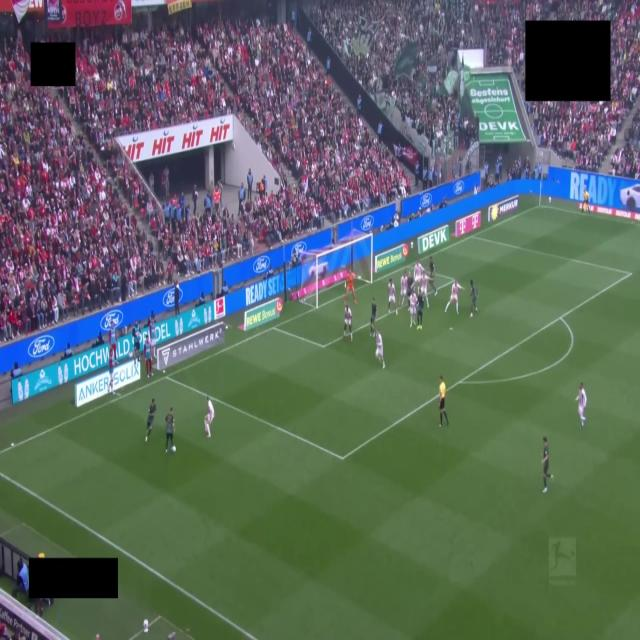ball: (172, 446, 175, 453)
player: (542, 437, 552, 493), (445, 280, 461, 313), (145, 399, 156, 441), (576, 383, 586, 428), (417, 271, 429, 307), (204, 397, 214, 437), (345, 271, 356, 304), (166, 408, 174, 452), (343, 303, 352, 341), (417, 292, 426, 329), (376, 331, 385, 368), (388, 279, 397, 314), (429, 256, 437, 295), (409, 292, 417, 327), (470, 280, 477, 317), (401, 272, 408, 306), (414, 261, 423, 287), (370, 298, 376, 336)
referee: (439, 376, 448, 427)
